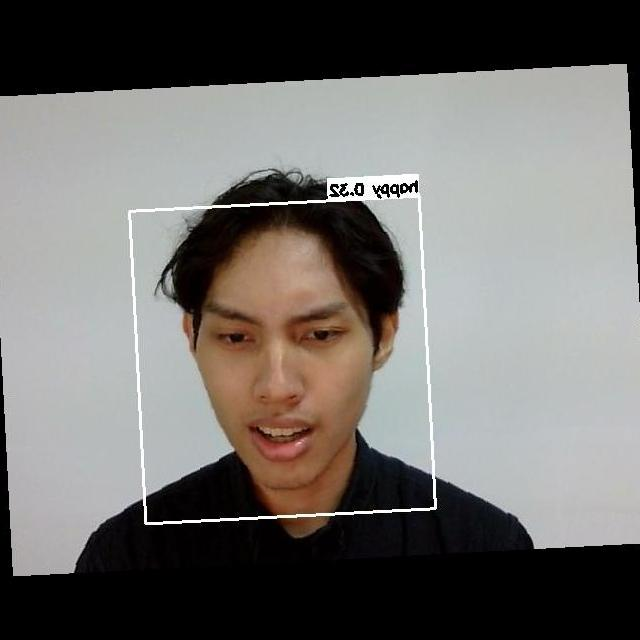Angry: (185, 284, 376, 468)
